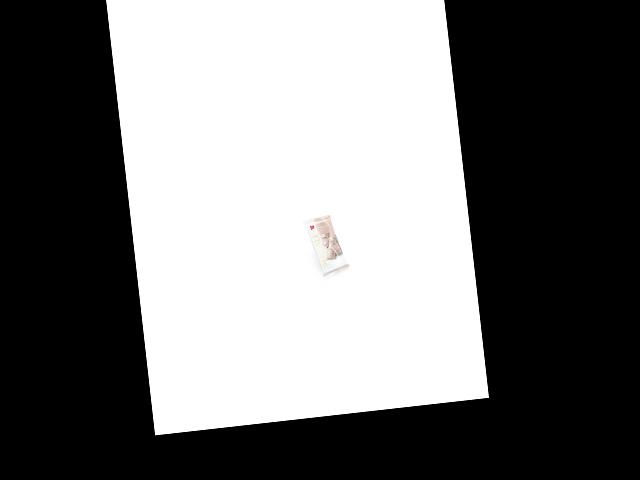chocolate: (301, 212, 354, 274)
